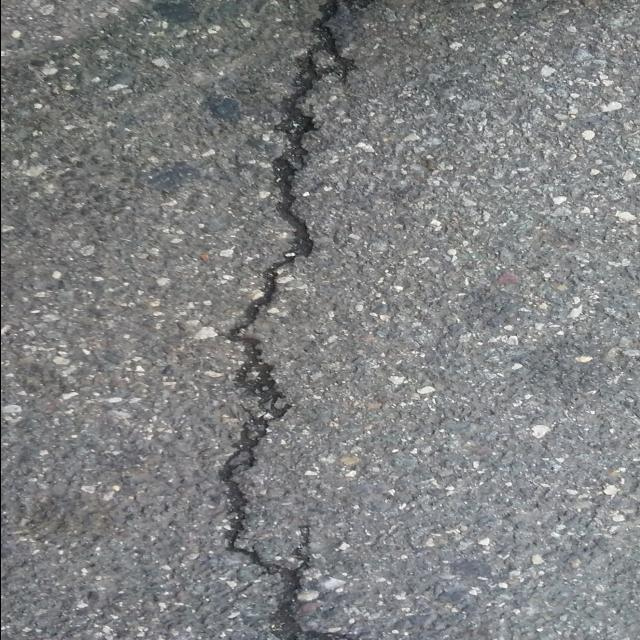Crack: (214, 0, 375, 640)
